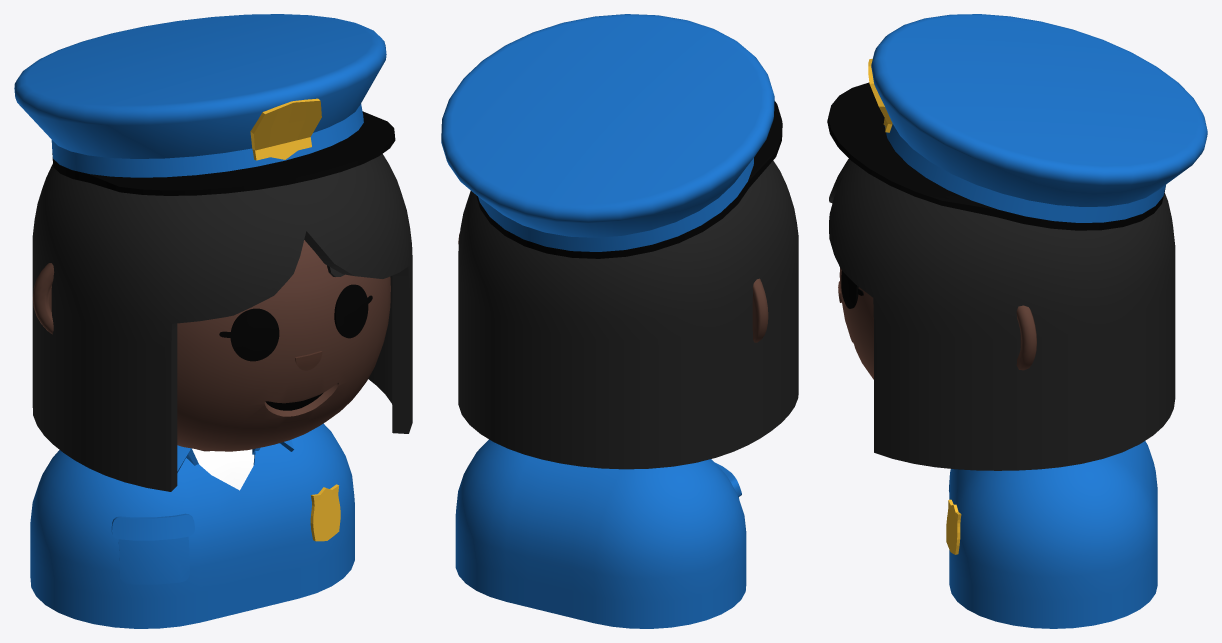
File: woman_police_officer.glb
3 renders of one model, left to right at view 1: azimuth 30°, elevation 25°; view 2: azimuth 150°, elevation 25°; view 3: azimuth 270°, elevation 25°, orthographic. The views are drawn at different scales.
Parts seen in each view (by area): view 1: Roundcube.146, Circle.783, Sphere.116, Roundcube.145, Sphere.117, Circle.780, Cube.1846, Cube.1847, Cylinder.120; view 2: Roundcube.146, Circle.783, Sphere.116, Cylinder.120; view 3: Roundcube.146, Circle.783, Sphere.116, Roundcube.145, Cylinder.120, Cube.1847.
Part boxes in pixels (x1,y1,x2,y2): Roundcube.146: [32, 154, 412, 491]; Circle.783: [14, 14, 395, 195]; Sphere.116: [30, 423, 354, 628]; Roundcube.145: [177, 240, 390, 451]; Sphere.117: [111, 513, 194, 584]; Circle.780: [230, 284, 368, 361]; Cube.1846: [250, 98, 321, 160]; Cube.1847: [310, 484, 340, 541]; Cylinder.120: [32, 263, 54, 334]; Roundcube.146: [458, 160, 798, 469]; Circle.783: [441, 14, 782, 258]; Sphere.116: [455, 439, 746, 628]; Cylinder.120: [458, 233, 768, 342]; Roundcube.146: [829, 159, 1175, 470]; Circle.783: [827, 14, 1207, 230]; Sphere.116: [949, 441, 1157, 628]; Roundcube.145: [839, 268, 873, 379]; Cylinder.120: [1016, 305, 1036, 370]; Cube.1847: [946, 499, 961, 554].
Size of the model in its own units: 1.66 by 2.53 by 1.73.
Materials: 2 (2 with a texture image).
